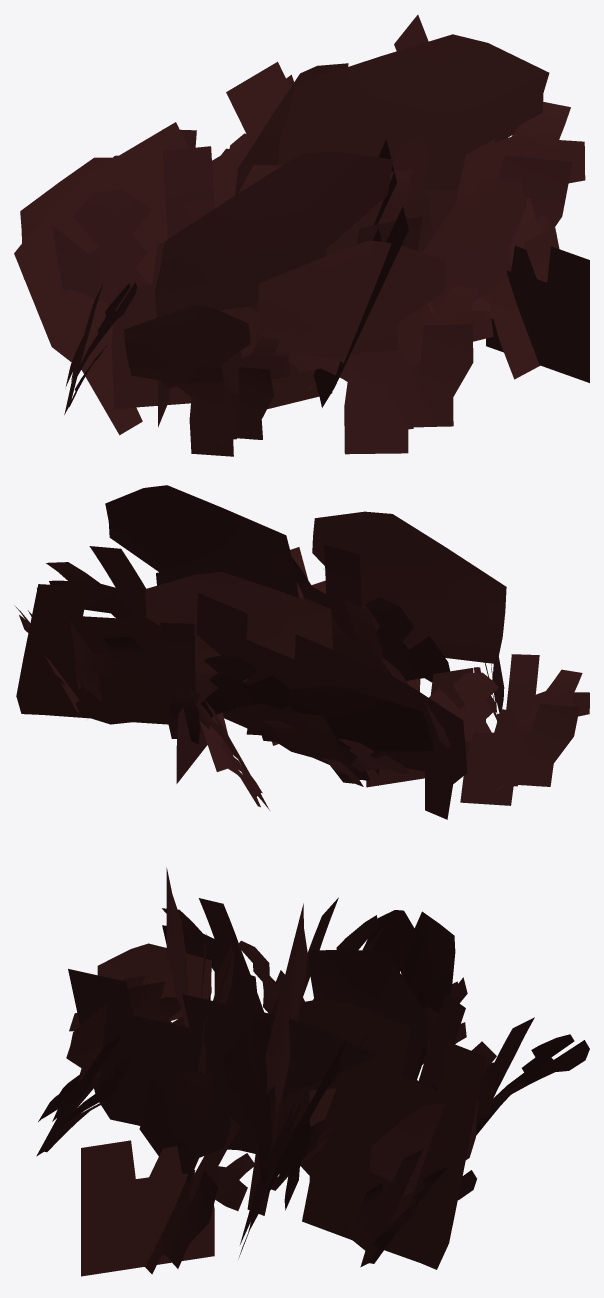
The model's file is SM_ocean_scatterPlant_01_A.fbx.
3 renders of one model, top to bottom at view 1: azimuth 30°, elevation 25°; view 2: azimuth 150°, elevation 25°; view 3: azimuth 270°, elevation 25°, orthographic. The views are drawn at different scales.
Visible parts, largest first — view 1: SM_ocean_scatterPlant_01_A_LOD0; view 2: SM_ocean_scatterPlant_01_A_LOD0; view 3: SM_ocean_scatterPlant_01_A_LOD0.
Boxes of the visible parts, left/top/right/bottom form: SM_ocean_scatterPlant_01_A_LOD0: left=14, top=15, right=589, bottom=456; SM_ocean_scatterPlant_01_A_LOD0: left=14, top=485, right=589, bottom=819; SM_ocean_scatterPlant_01_A_LOD0: left=36, top=867, right=589, bottom=1276.
Size of what is drawn, in the model's own units: 60.74 by 48.76 by 31.11.
